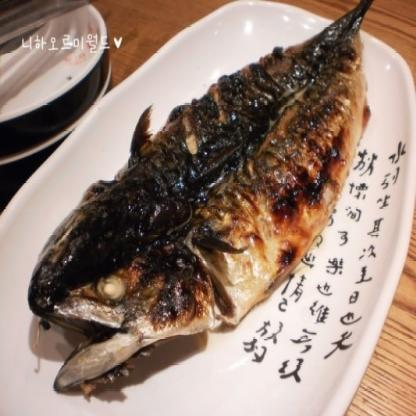Peixe: (29, 0, 388, 394)
